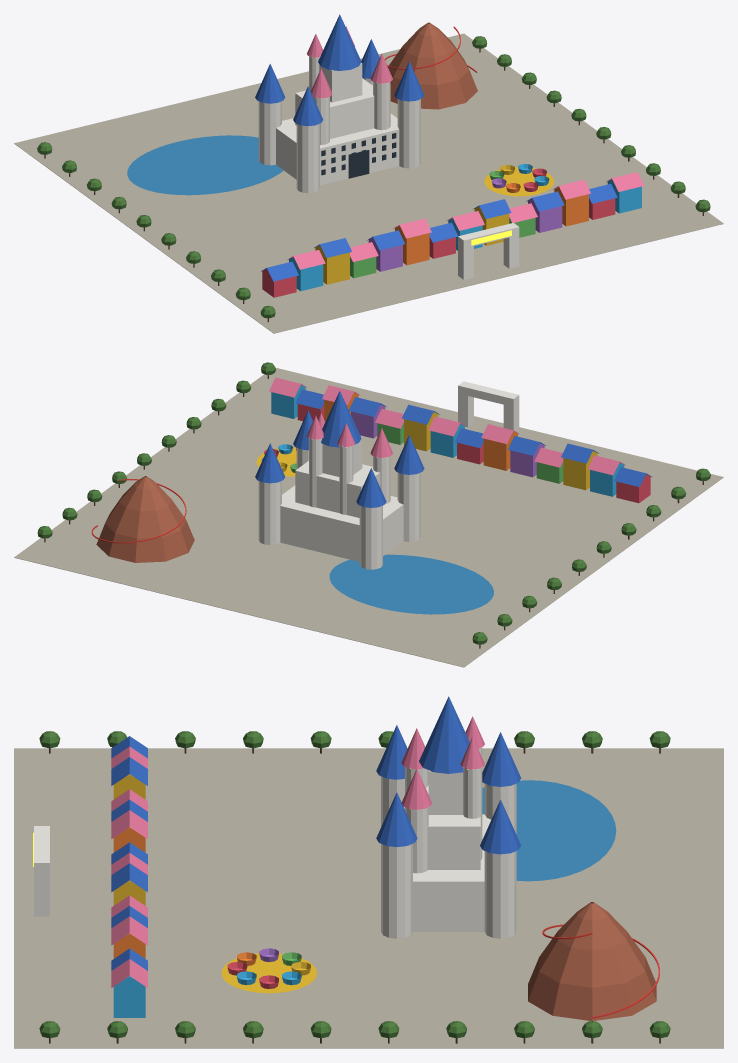
File: mega_park.glb
3 views of the same model, one above another, from view 1: azimuth 30°, elevation 25°; view 2: azimuth 150°, elevation 25°; view 3: azimuth 270°, elevation 25° (orthographic). The views are drawn at different scales.
Parts seen in each view (by area): view 1: MegaPark_static, spinY_s40_cups; view 2: MegaPark_static, spinY_s40_cups; view 3: MegaPark_static, spinY_s40_cups.
Part boxes in pixels (box(x1,y1,x2,y2)): MegaPark_static: box(14, 14, 723, 333); spinY_s40_cups: box(484, 164, 554, 196); MegaPark_static: box(14, 362, 723, 667); spinY_s40_cups: box(256, 444, 296, 476); MegaPark_static: box(14, 696, 723, 1048); spinY_s40_cups: box(221, 948, 316, 993).
Size of the model in its own units: 178 by 56 by 178.
